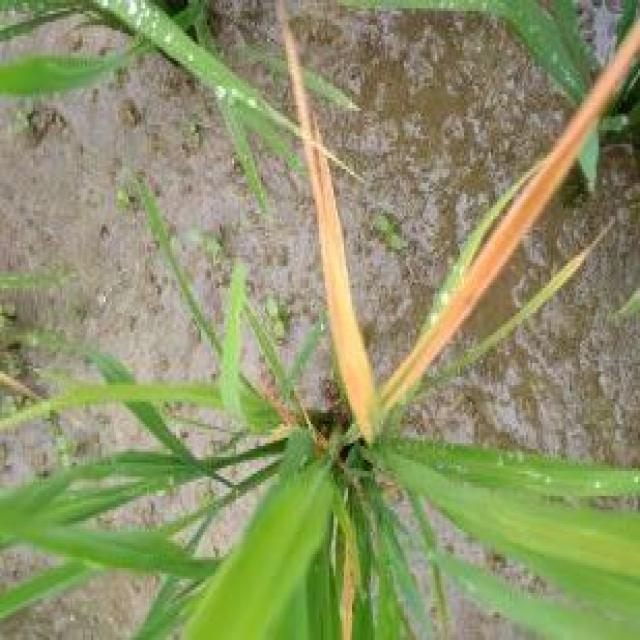Tungro: (275, 0, 633, 443)
